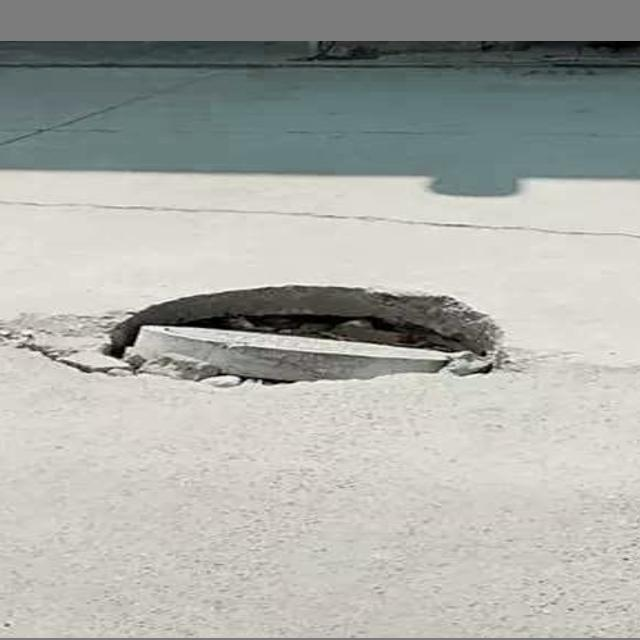circle: (0, 270, 550, 417)
